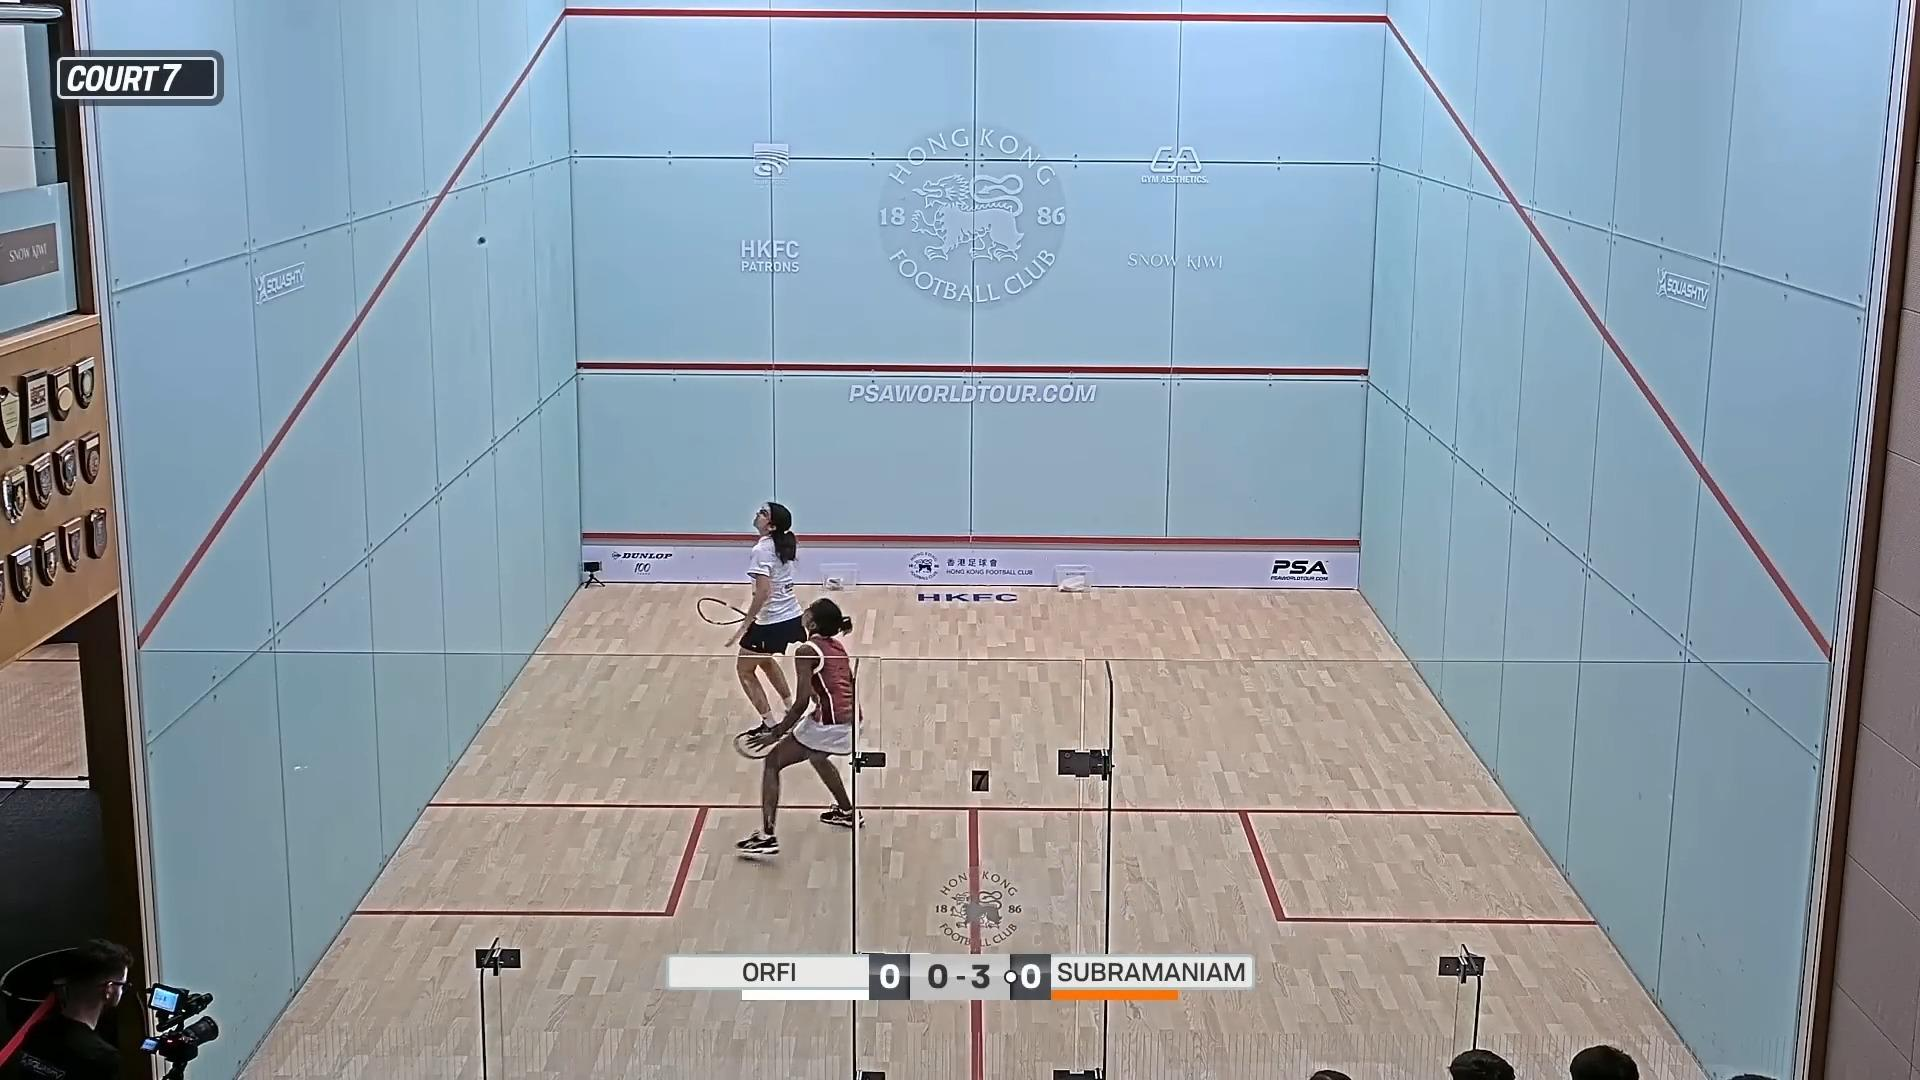Squash-Ball: (468, 225, 497, 255)
